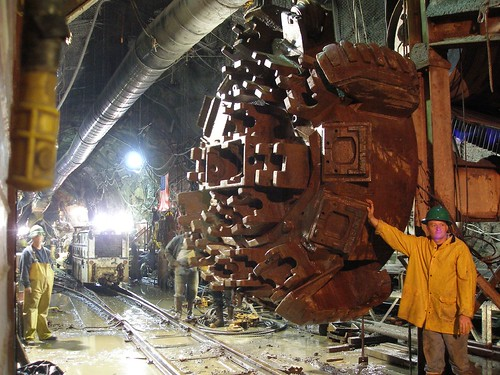person hardhat: (364, 197, 487, 375), (22, 219, 86, 346)
